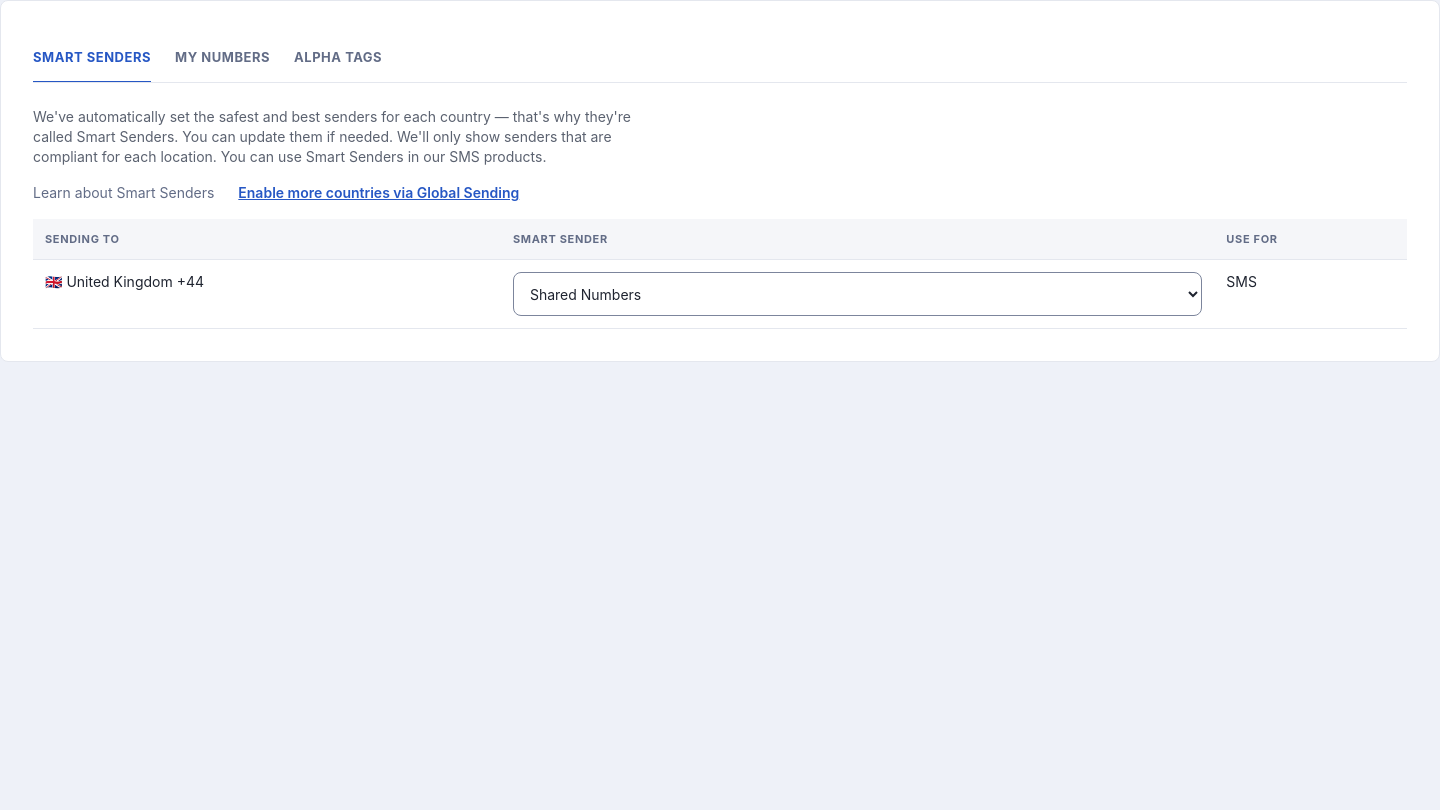
RegisterAlphaTagModal › closes without registering on Close
Step 1. Click the tab "Alpha Tags" → click(338, 58), box [294, 33, 382, 83]
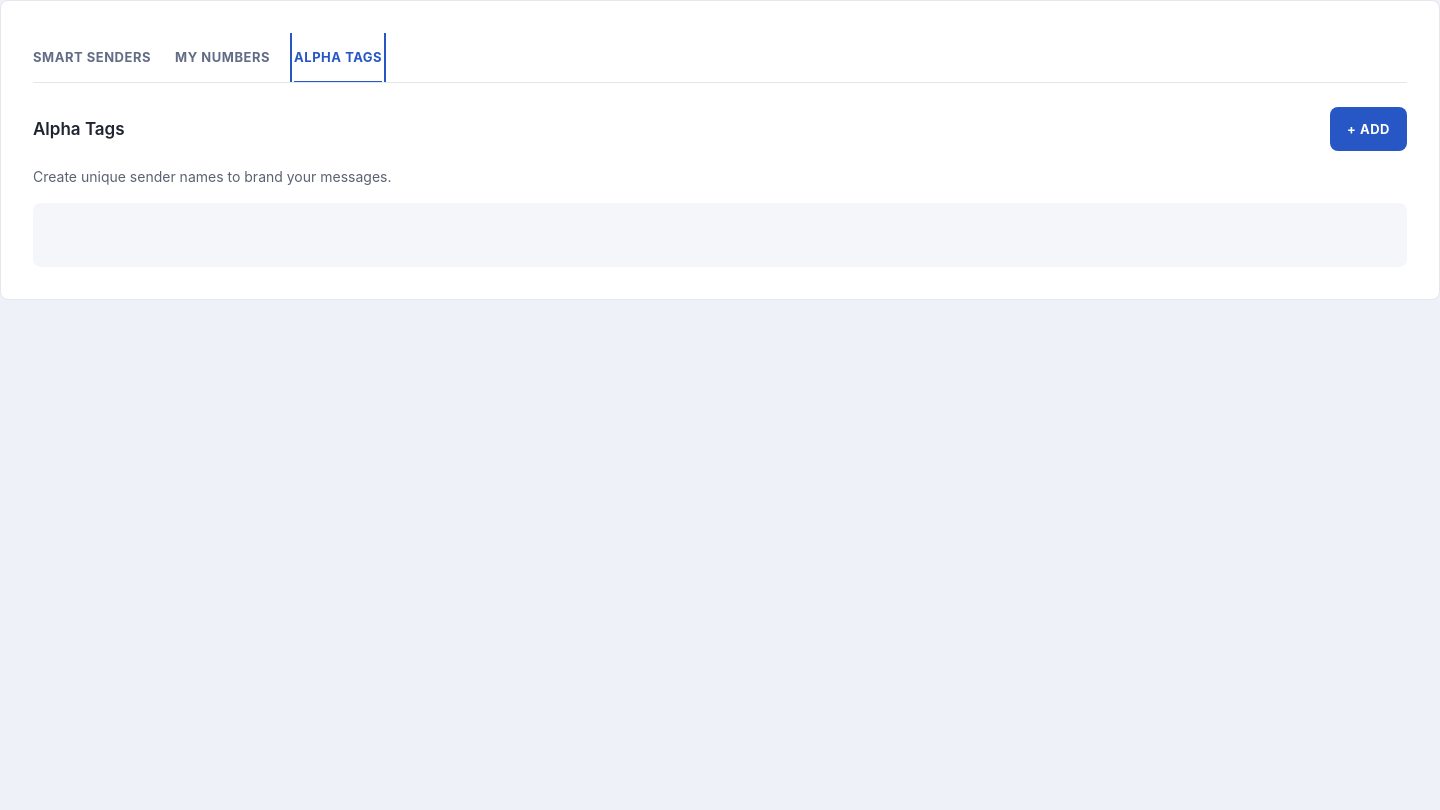
Step 2. Click the button "+ Add" → click(1368, 129), box [1330, 107, 1407, 151]
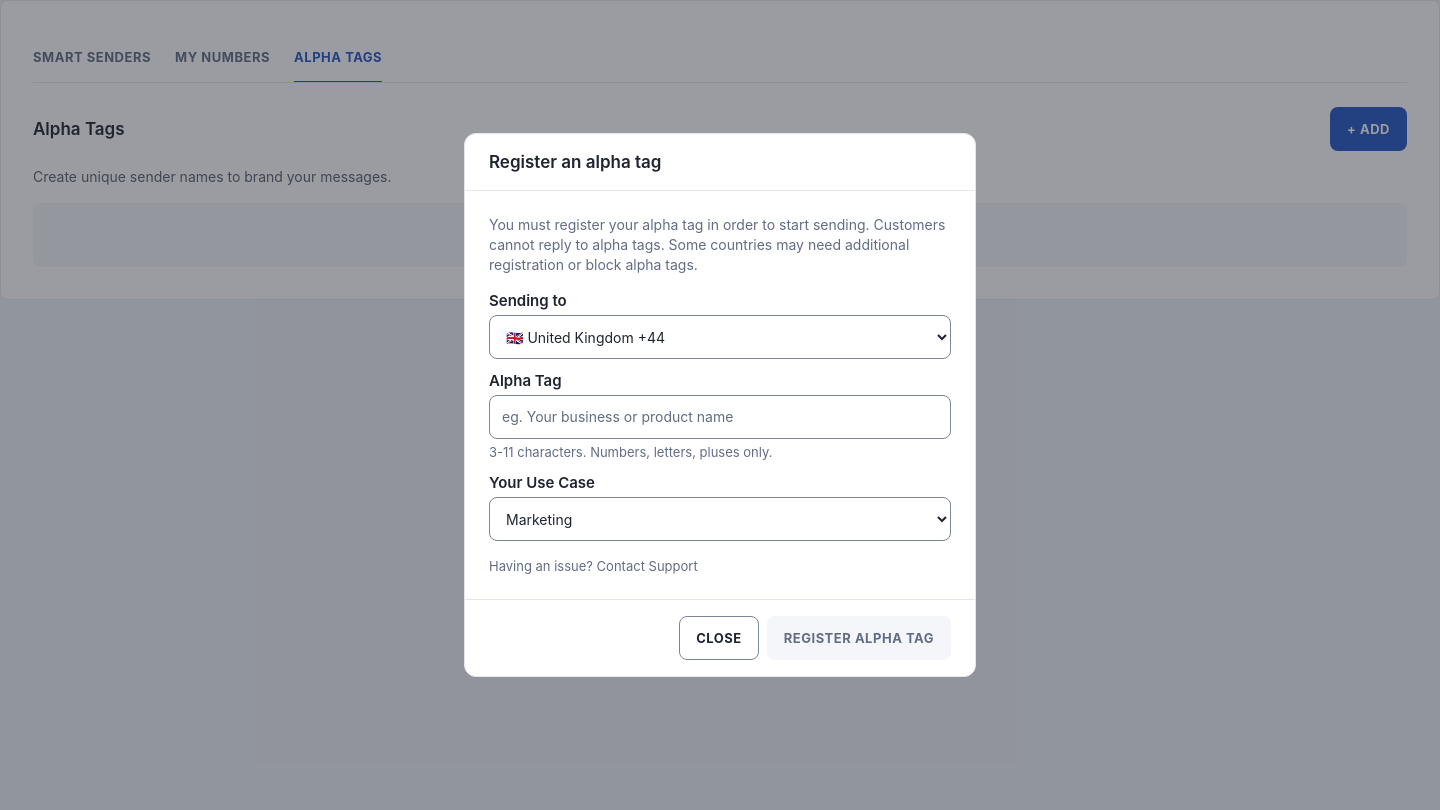
Step 3. Click the button "Close" → click(719, 638), box [679, 616, 759, 660]
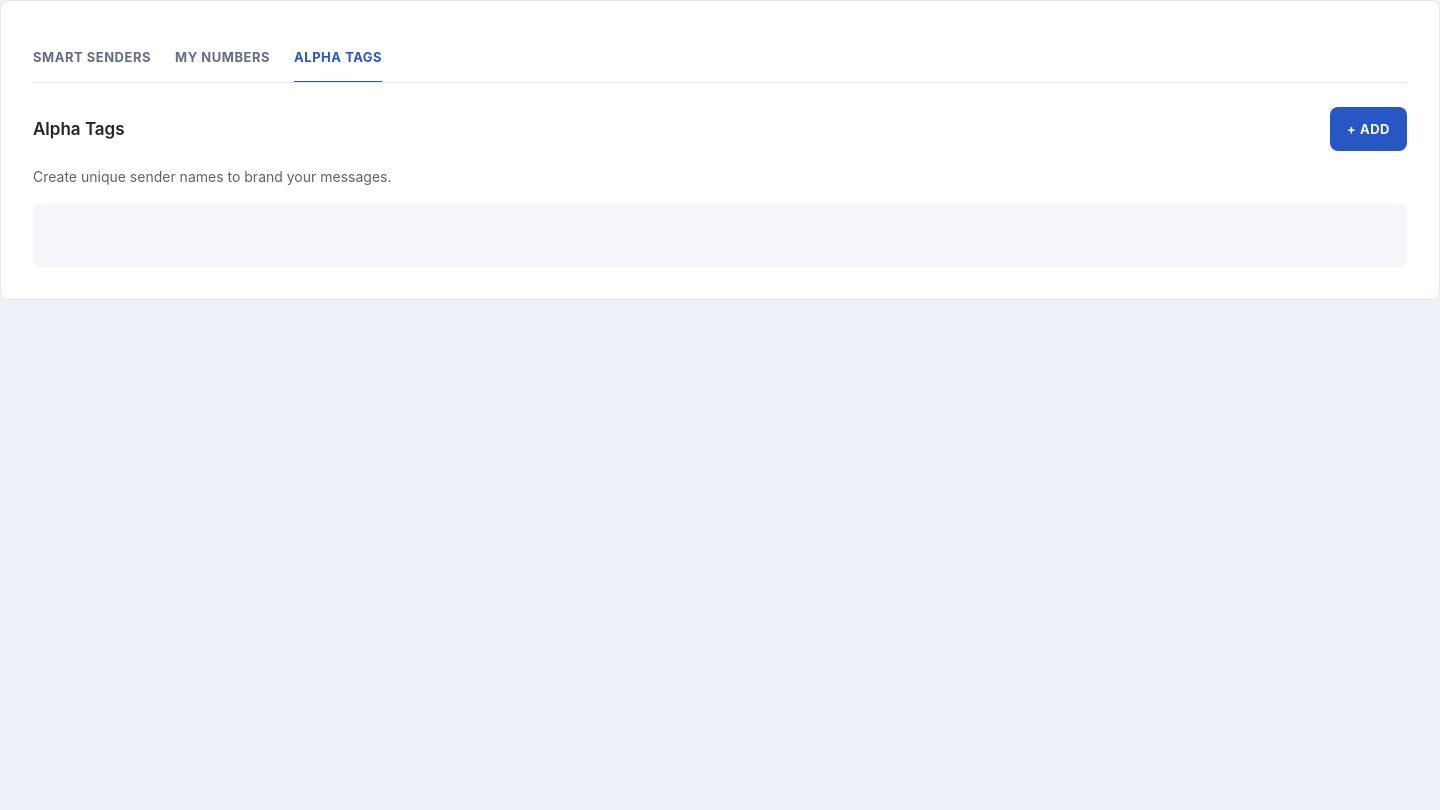
Check: the dialog is gone
